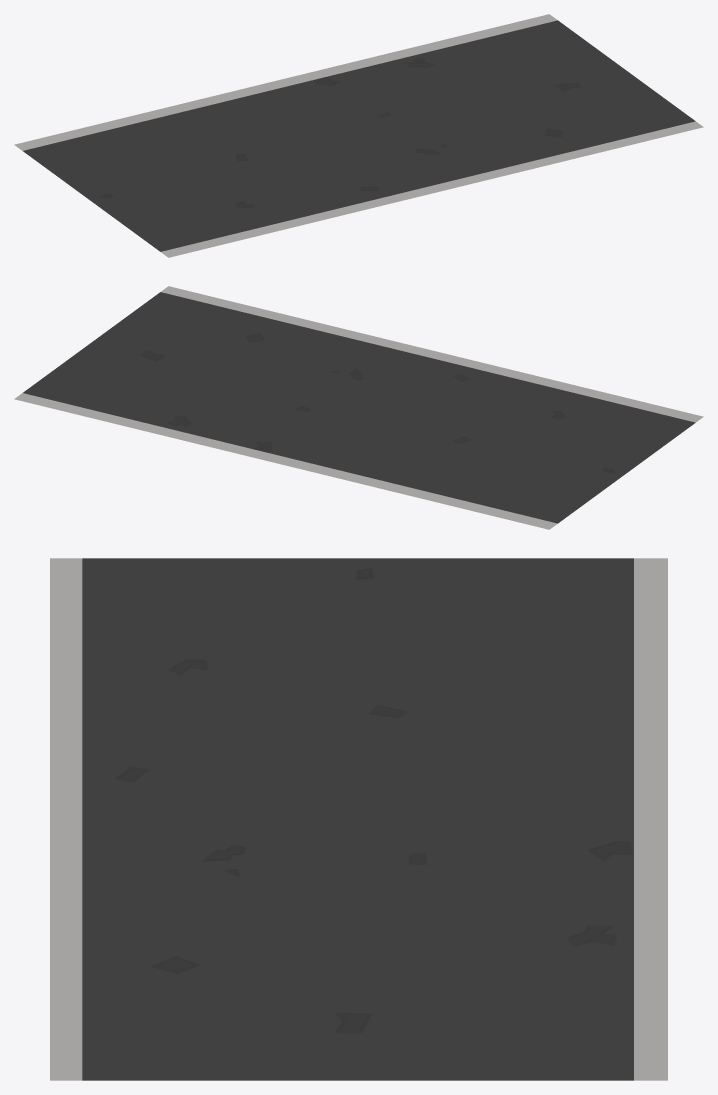
File: SM_Gen_Env_Road_Half_02.glb
3 views of the same model, one above another, from view 1: azimuth 30°, elevation 25°; view 2: azimuth 150°, elevation 25°; view 3: azimuth 270°, elevation 25° (orthographic). The views are drawn at different scales.
Visible parts, largest first — view 1: SM_Gen_Env_Road_Half_022; view 2: SM_Gen_Env_Road_Half_022; view 3: SM_Gen_Env_Road_Half_022.
Boxes of the visible parts, x1,y1,x2,y2 form: SM_Gen_Env_Road_Half_022: [14, 14, 703, 257]; SM_Gen_Env_Road_Half_022: [14, 286, 703, 529]; SM_Gen_Env_Road_Half_022: [50, 558, 667, 1080].
Size of the model in its own units: 10 by 1.07e-19 by 5.
1 material, 1 textured.
